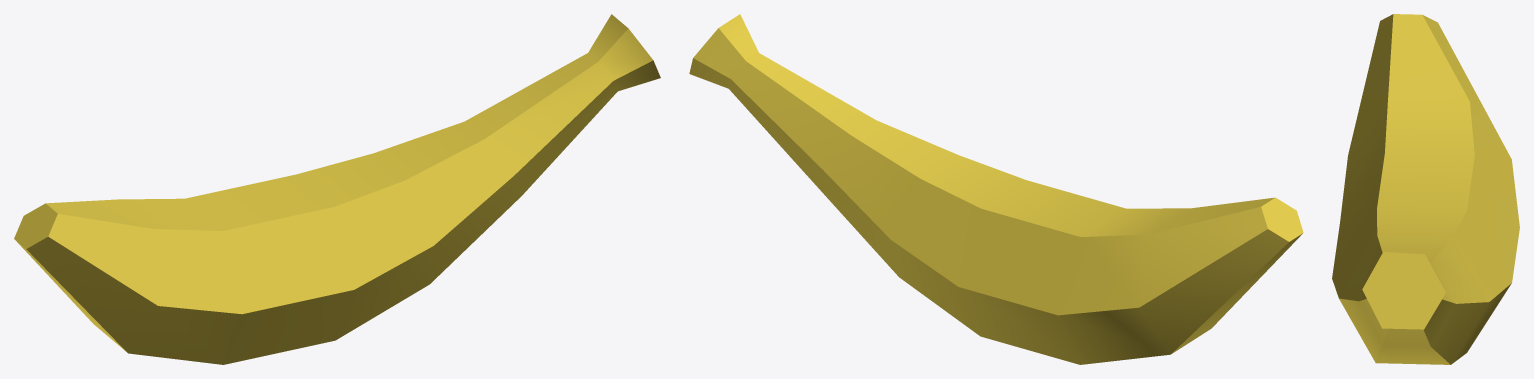
File: banana.fbx
3 views of the same model, side by side, from view 1: azimuth 30°, elevation 25°; view 2: azimuth 150°, elevation 25°; view 3: azimuth 270°, elevation 25° (orthographic). The views are drawn at different scales.
Visible parts, largest first — view 1: pCylinder1; view 2: pCylinder1; view 3: pCylinder1.
Boxes of the visible parts, box(x1,y1,x2,y2) form: pCylinder1: box(14, 14, 660, 364); pCylinder1: box(689, 14, 1303, 364); pCylinder1: box(1332, 14, 1519, 364).
Size of the model in its own units: 48.06 by 17.38 by 11.76.
